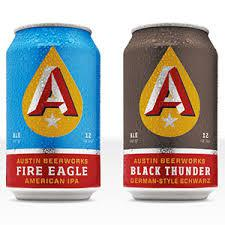beer: (121, 22, 220, 201), (5, 21, 102, 203)
